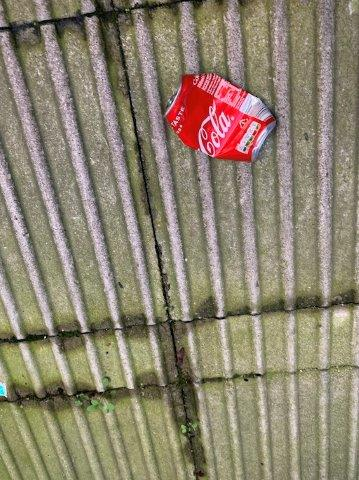kaleng: (164, 74, 276, 161)
